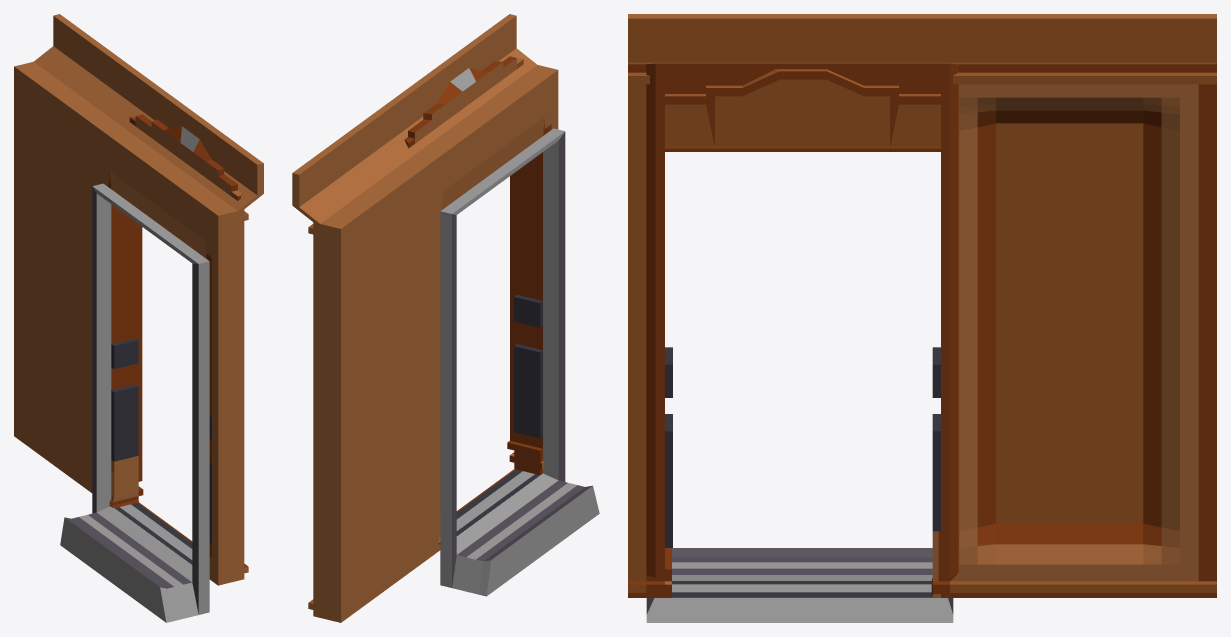
Rendered from elevatorWallDoor16.fbx.
3 views of the same model, side by side, from view 1: azimuth 30°, elevation 25°; view 2: azimuth 150°, elevation 25°; view 3: azimuth 270°, elevation 25° (orthographic). The views are drawn at different scales.
Visible parts, largest first — view 1: elevatorWallDoor; view 2: elevatorWallDoor; view 3: elevatorWallDoor.
Part boxes in pixels (x1,y1,x2,y2): elevatorWallDoor: [14, 14, 263, 622]; elevatorWallDoor: [292, 14, 599, 622]; elevatorWallDoor: [628, 14, 1216, 622].
Size of the model in its own units: 64.37 by 299 by 250.
